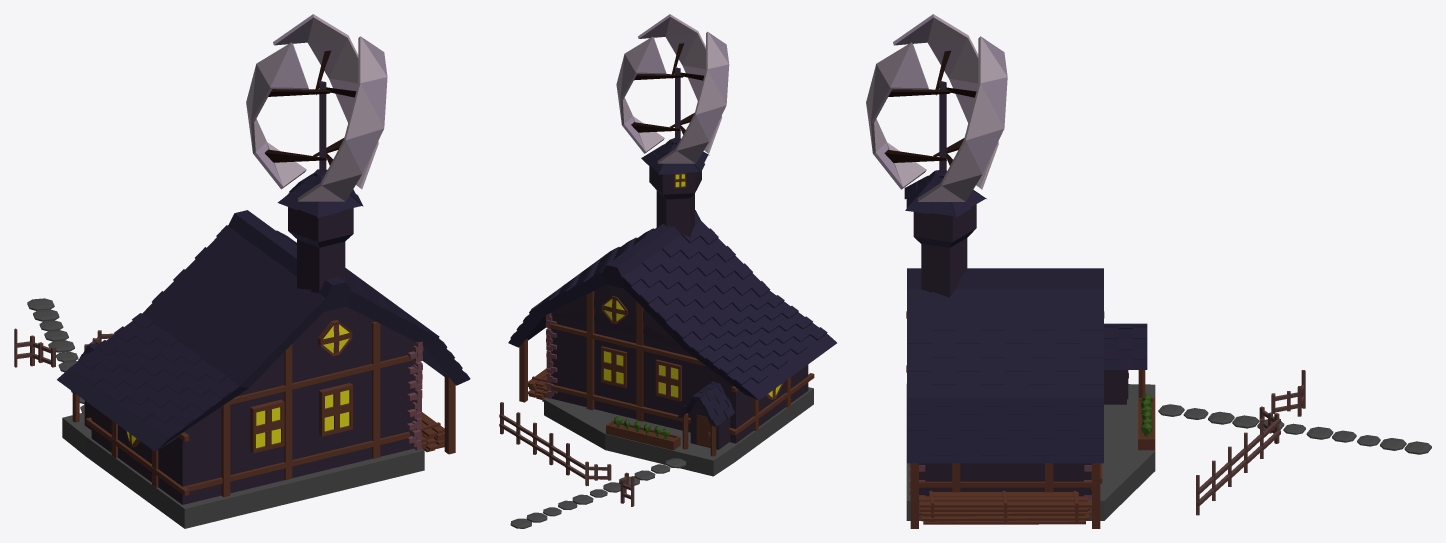
The model's file is ДОм.fbx.
3 renders of one model, left to right at view 1: azimuth 30°, elevation 25°; view 2: azimuth 150°, elevation 25°; view 3: azimuth 270°, elevation 25°, orthographic. The views are drawn at different scales.
Visible parts, largest first — view 1: Cube.001, Icosphere, Cube, Cylinder, Cube.018, Cube.008, Cube.019, Cube.011, Cube.022, Cube.013, Cube.014, Cube.015 (+4 smaller); view 2: Cube.001, Icosphere, Cube, Cylinder, Cube.002, Cube.018, Cube.008, Cube.019, Cube.060, Cube.052, Cube.007, Cube.005 (+6 smaller); view 3: Cube.001, Icosphere, Cylinder, Cube, Cube.002, Cube.019, Cube.060, Cube.015, Cube.047, Cube.003, Cube.046, Cube.029 (+6 smaller).
Part boxes in pixels (left/top/right/bottom): Cube.001: left=57, top=210, right=470, bottom=504; Icosphere: left=246, top=14, right=387, bottom=201; Cube: left=62, top=412, right=424, bottom=528; Cylinder: left=277, top=169, right=363, bottom=292; Cube.018: left=250, top=383, right=352, bottom=453; Cube.008: left=284, top=321, right=380, bottom=480; Cube.019: left=27, top=298, right=84, bottom=412; Cube.011: left=183, top=431, right=409, bottom=491; Cube.022: left=406, top=341, right=423, bottom=450; Cube.013: left=221, top=355, right=413, bottom=406; Cube.014: left=221, top=401, right=230, bottom=497; Cube.015: left=444, top=374, right=455, bottom=454; Cube.001: left=508, top=210, right=836, bottom=443; Icosphere: left=616, top=14, right=729, bottom=163; Cube: left=544, top=387, right=813, bottom=476; Cylinder: left=641, top=138, right=709, bottom=237; Cube.002: left=677, top=381, right=734, bottom=449; Cube.018: left=601, top=346, right=681, bottom=401; Cube.008: left=586, top=291, right=643, bottom=421; Cube.019: left=510, top=458, right=686, bottom=528; Cube.060: left=499, top=402, right=586, bottom=479; Cube.052: left=606, top=420, right=680, bottom=450; Cube.007: left=550, top=324, right=705, bottom=365; Cube.005: left=551, top=385, right=734, bottom=433; Cube.001: left=907, top=268, right=1103, bottom=496; Icosphere: left=866, top=14, right=1007, bottom=201; Cylinder: left=904, top=170, right=986, bottom=297; Cube: left=906, top=384, right=1155, bottom=520; Cube.002: left=1104, top=323, right=1147, bottom=404; Cube.019: left=1158, top=404, right=1431, bottom=454; Cube.060: left=1196, top=418, right=1280, bottom=515; Cube.015: left=910, top=463, right=1100, bottom=528; Cube.047: left=919, top=501, right=1091, bottom=507; Cube.003: left=919, top=481, right=1091, bottom=487; Cube.046: left=919, top=496, right=1087, bottom=502; Cube.029: left=921, top=514, right=1089, bottom=521.
Size of the model in its own units: 471 by 639 by 731.
